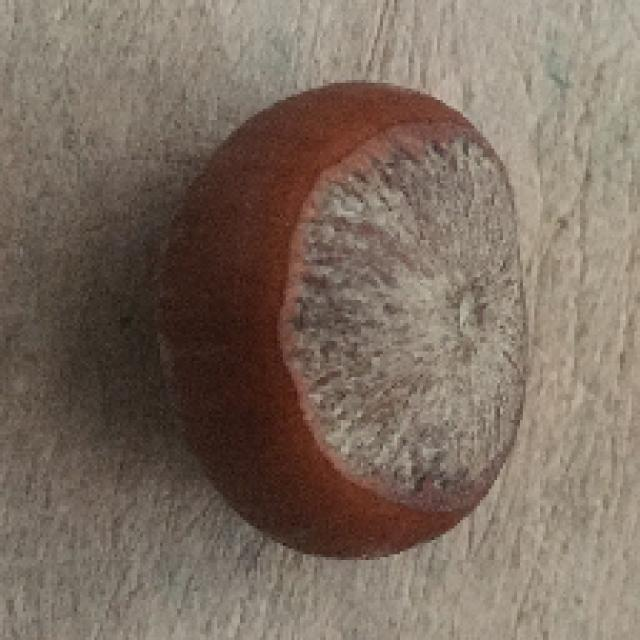qualityHazelnut: (145, 71, 526, 564)
